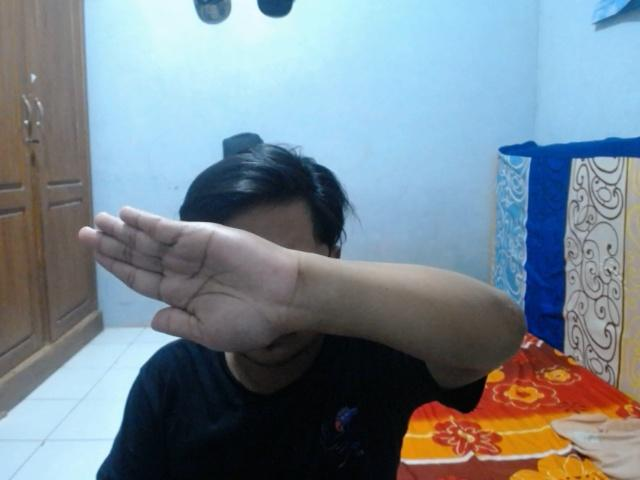Release: (77, 202, 306, 358)
